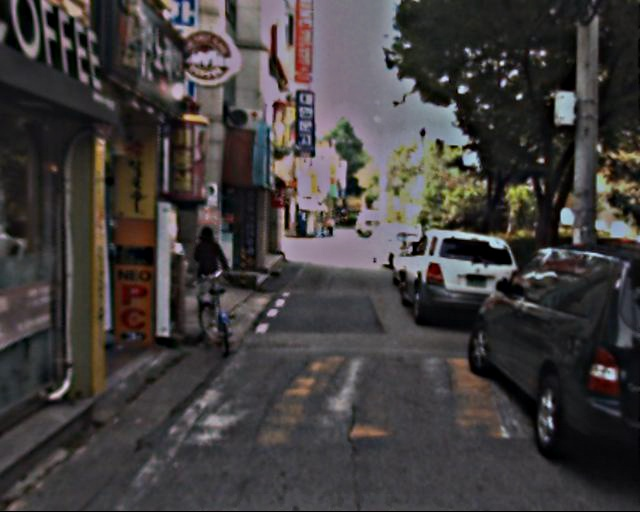person: (191, 221, 232, 315)
